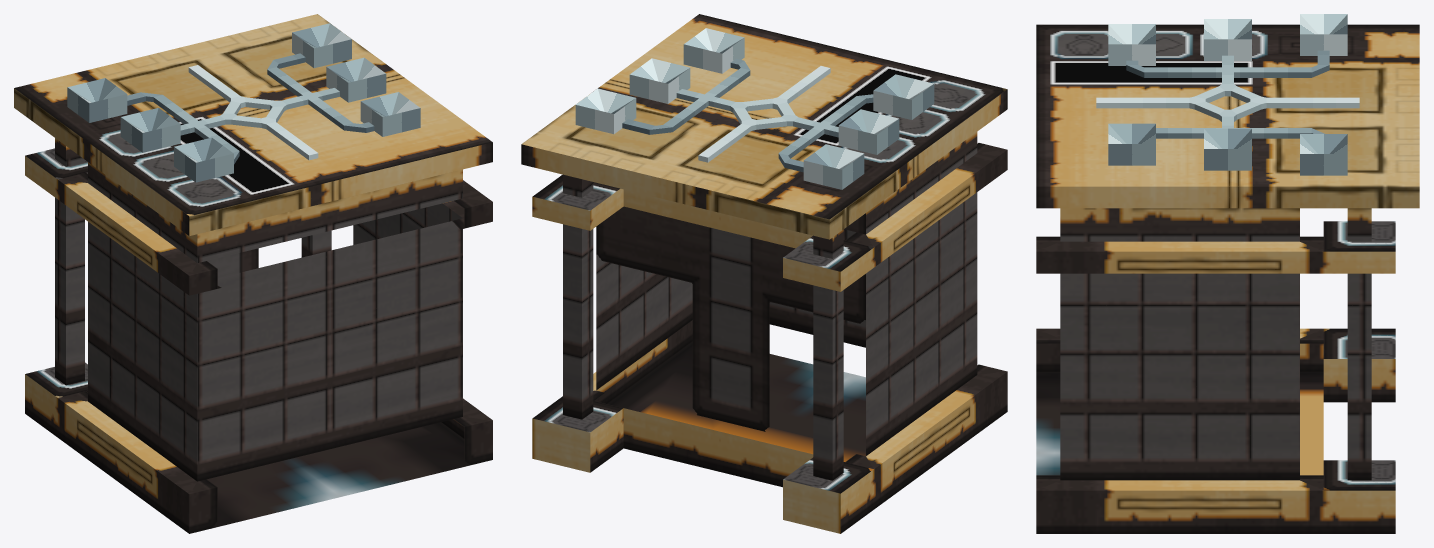
The model's file is station_affinitytinkerer_inventory.obj.
3 renders of one model, left to right at view 1: azimuth 30°, elevation 25°; view 2: azimuth 150°, elevation 25°; view 3: azimuth 270°, elevation 25°, orthographic. The views are drawn at different scales.
Parts seen in each view (by area): view 1: DESK_SINGLE_MAIN.006, AFFINITYTINKERER_MAIN_Cube.001; view 2: DESK_SINGLE_MAIN.006, AFFINITYTINKERER_MAIN_Cube.001; view 3: DESK_SINGLE_MAIN.006, AFFINITYTINKERER_MAIN_Cube.001.
Boxes of the visible parts, bbox=[...] form: DESK_SINGLE_MAIN.006: bbox=[14, 14, 492, 533]; AFFINITYTINKERER_MAIN_Cube.001: bbox=[67, 23, 420, 182]; DESK_SINGLE_MAIN.006: bbox=[521, 14, 1007, 533]; AFFINITYTINKERER_MAIN_Cube.001: bbox=[575, 28, 934, 189]; DESK_SINGLE_MAIN.006: bbox=[1036, 24, 1419, 533]; AFFINITYTINKERER_MAIN_Cube.001: bbox=[1096, 14, 1359, 175].
Bounding box in the file's own units: 1 × 1.08 × 1.
